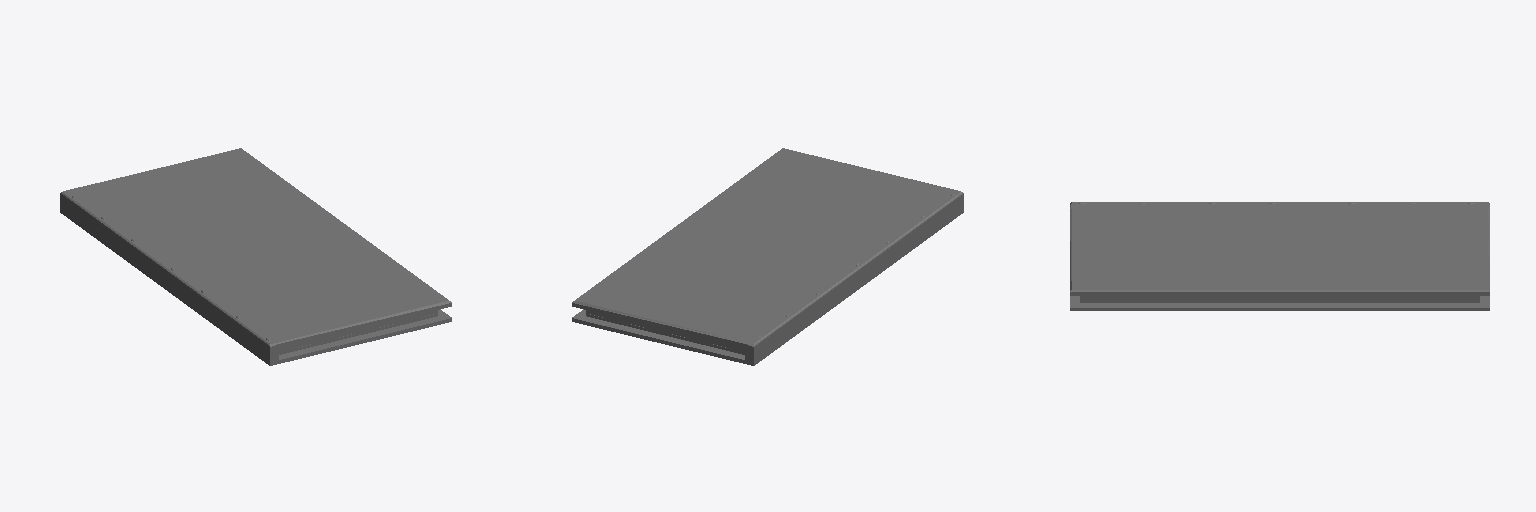
The model's file is Journal_Cover.obj.
3 renders of one model, left to right at view 1: azimuth 30°, elevation 25°; view 2: azimuth 150°, elevation 25°; view 3: azimuth 270°, elevation 25°, orthographic.
Parts seen in each view (by area): view 1: BookTemp:pCube6, BookTemp:pCube8, BookTemp:pCube1; view 2: BookTemp:pCube6, BookTemp:pCube8, BookTemp:pCube1; view 3: BookTemp:pCube6, BookTemp:pCube1, BookTemp:pCube2, BookTemp:pCube3.
Boxes of the visible parts, x1=… form: BookTemp:pCube6: x1=60, y1=148, x2=451, y2=350; BookTemp:pCube8: x1=60, y1=198, x2=278, y2=361; BookTemp:pCube1: x1=60, y1=209, x2=451, y2=365; BookTemp:pCube6: x1=572, y1=148, x2=963, y2=350; BookTemp:pCube8: x1=745, y1=198, x2=963, y2=361; BookTemp:pCube1: x1=572, y1=209, x2=963, y2=365; BookTemp:pCube6: x1=1070, y1=202, x2=1489, y2=295; BookTemp:pCube1: x1=1070, y1=296, x2=1489, y2=310; BookTemp:pCube2: x1=1080, y1=300, x2=1479, y2=302; BookTemp:pCube3: x1=1080, y1=297, x2=1479, y2=299.
Bounding box in the file's own units: 10 × 1.16 × 20.